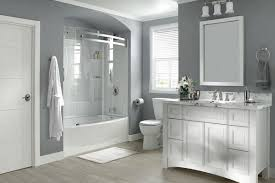bathub: (58, 110, 135, 157)
